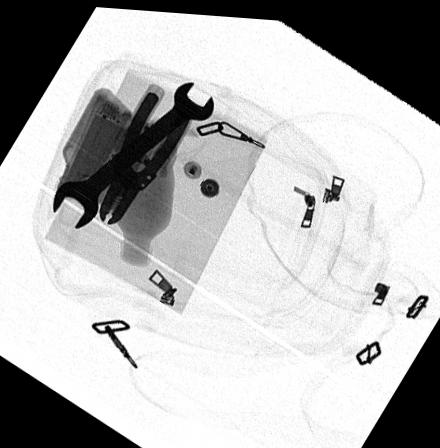Pliers: (99, 87, 191, 224)
Powerbank: (54, 91, 158, 221)
Wrench: (49, 78, 214, 227)
